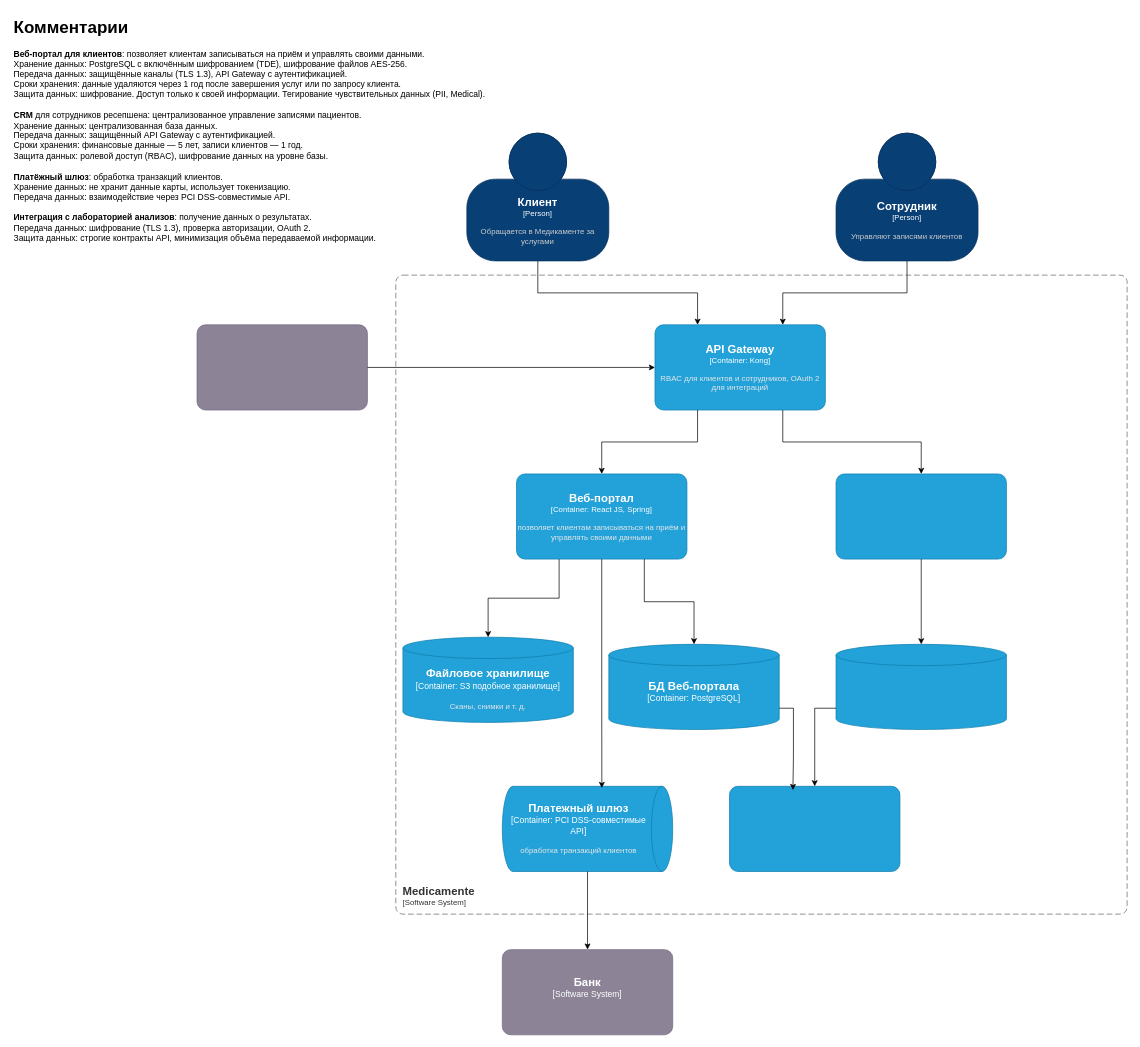
Image size: 1140x1047. Some labels were removed from this diagram. The centre of each missing label's shape, as x and y in pixels:
CRM [Container: React JS, Spring] централизованное управление записями пациентов: the point at 920,516
БД CRM [Container: PostgreSQL]: the point at 920,687
Лаборатория [Software System] Обработка анализов: the point at 281,367
Тегирование данных [Container: DataGrail]: the point at 814,829
